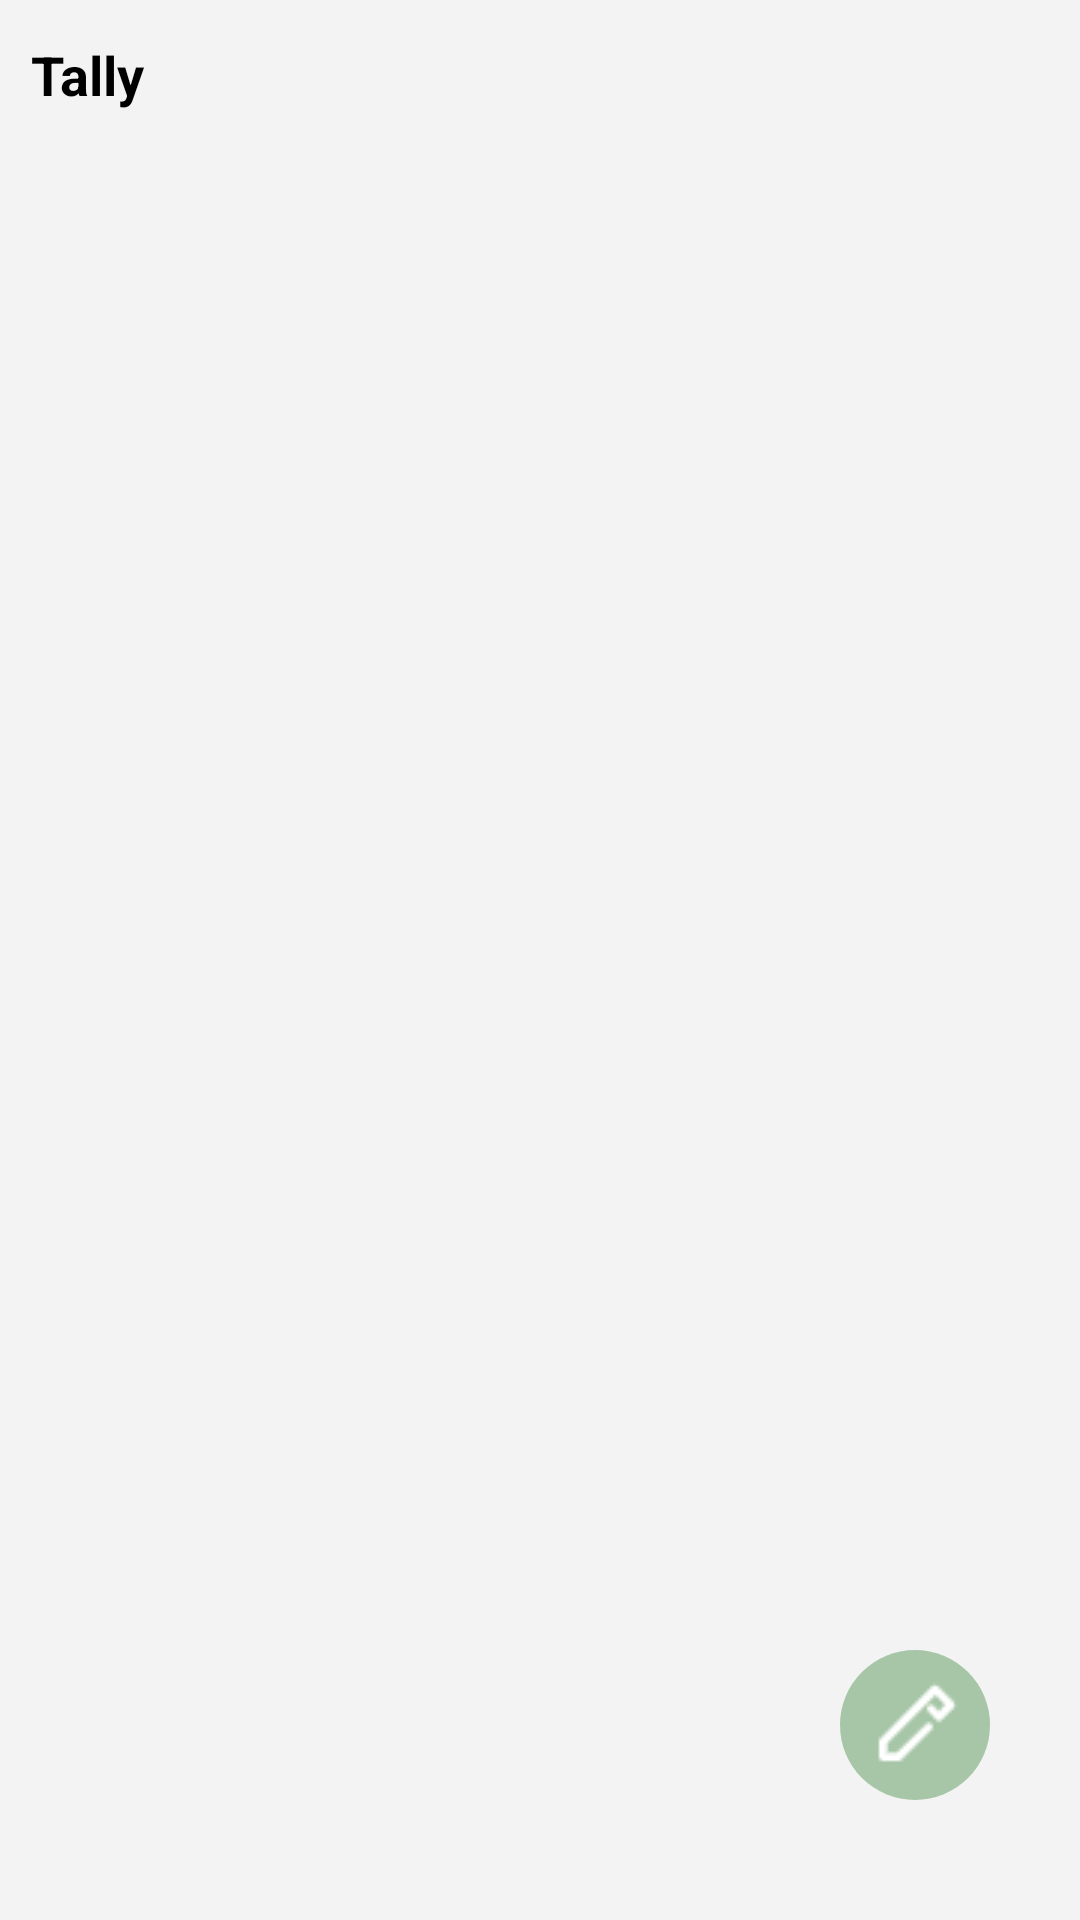

Screen size 1080×1920. Icon name, then its box in pixels as bbox=(x1, y1, x2, y2):
edit: bbox=(840, 1650, 990, 1800)
